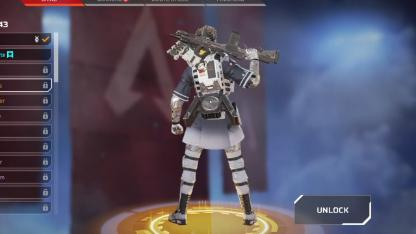Target: (180, 51, 240, 163)
